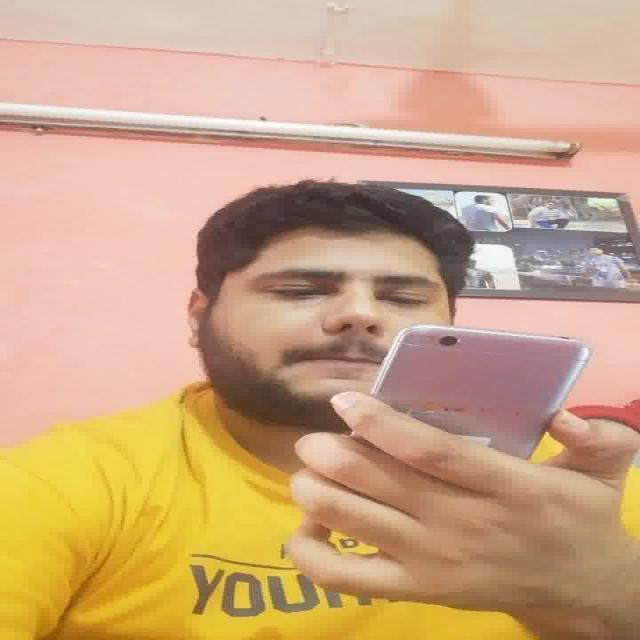Phone: (378, 322, 591, 457)
